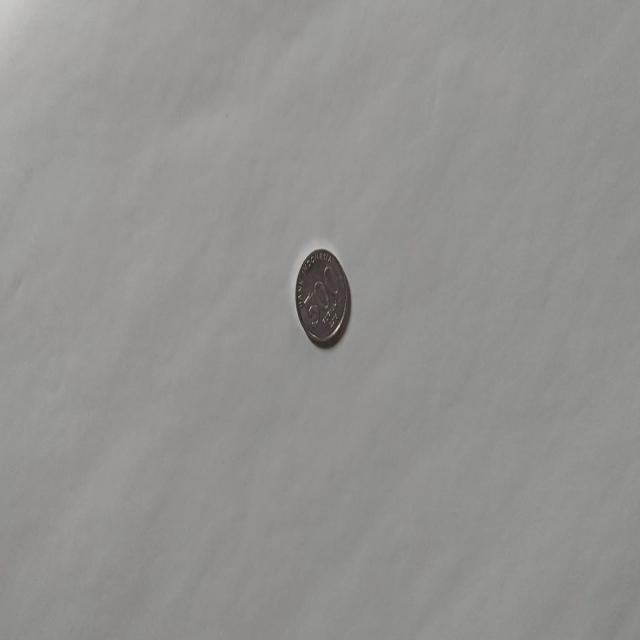lima ratus rupiah: (294, 246, 351, 347)
